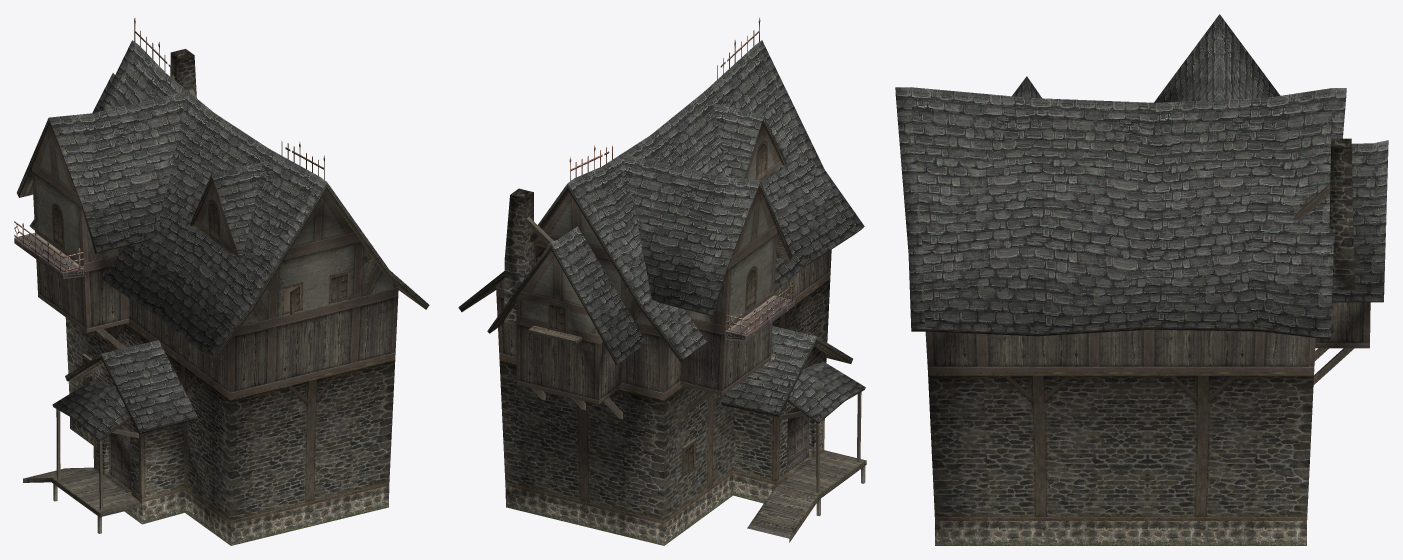
Rendered from OZ_09_ta_house01A.glb.
3 views of the same model, side by side, from view 1: azimuth 30°, elevation 25°; view 2: azimuth 150°, elevation 25°; view 3: azimuth 270°, elevation 25° (orthographic). The views are drawn at different scales.
Visible parts, largest first — view 1: OM_09_ta_house01A; view 2: OM_09_ta_house01A; view 3: OM_09_ta_house01A.
Part boxes in pixels (<box>): OM_09_ta_house01A: <box>14,18,429,545</box>; OM_09_ta_house01A: <box>458,17,866,545</box>; OM_09_ta_house01A: <box>895,14,1388,545</box>.
Size of the model in its own units: 10.33 by 13.39 by 13.31.
Materials: 6 (6 with a texture image).
